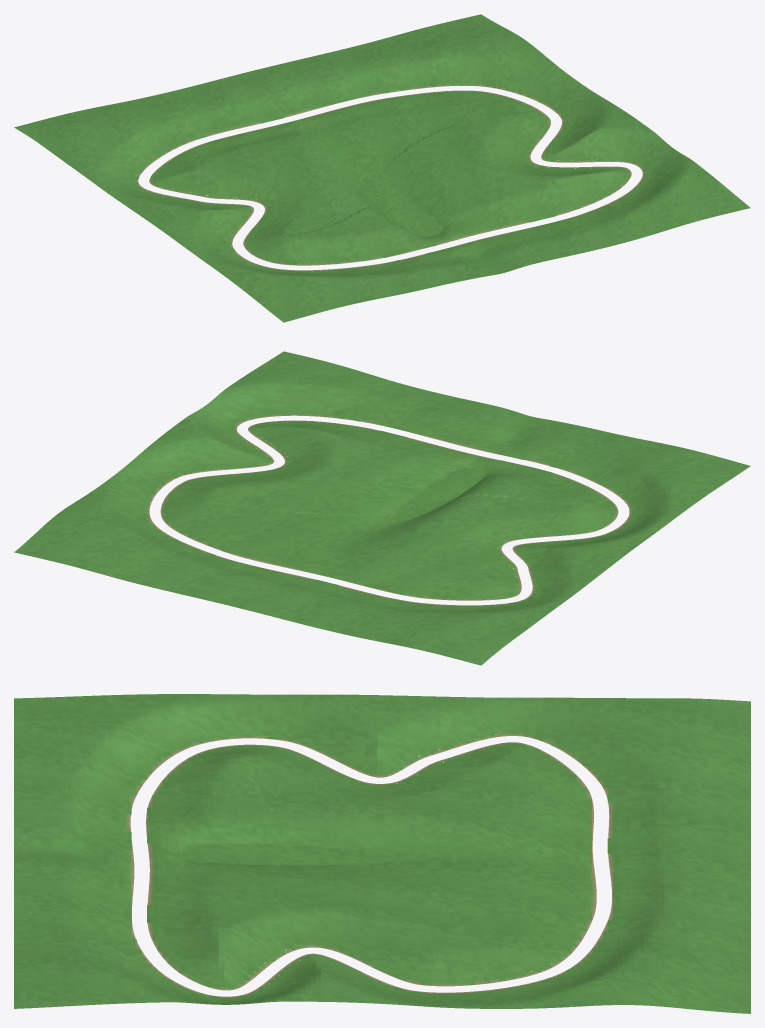
File: lowpoly_terrain.glb
3 views of the same model, one above another, from view 1: azimuth 30°, elevation 25°; view 2: azimuth 150°, elevation 25°; view 3: azimuth 270°, elevation 25° (orthographic). The views are drawn at different scales.
Visible parts, largest first — view 1: primitive_lowpoly_terrain; view 2: primitive_lowpoly_terrain; view 3: primitive_lowpoly_terrain.
Part boxes in pixels (box(x1,y1,x2,y2)): primitive_lowpoly_terrain: box(14, 14, 750, 322); primitive_lowpoly_terrain: box(14, 351, 750, 665); primitive_lowpoly_terrain: box(14, 694, 750, 1013).
Size of the model in its own units: 1127 by 37.18 by 1127.
